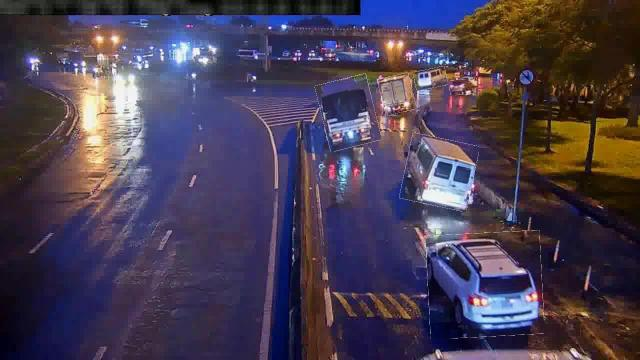Bike: (248, 74, 256, 82)
Bus: (402, 136, 476, 209), (414, 67, 446, 89)
Car: (427, 232, 543, 338), (450, 79, 474, 95)
Truck: (318, 76, 378, 150), (380, 74, 414, 114)
